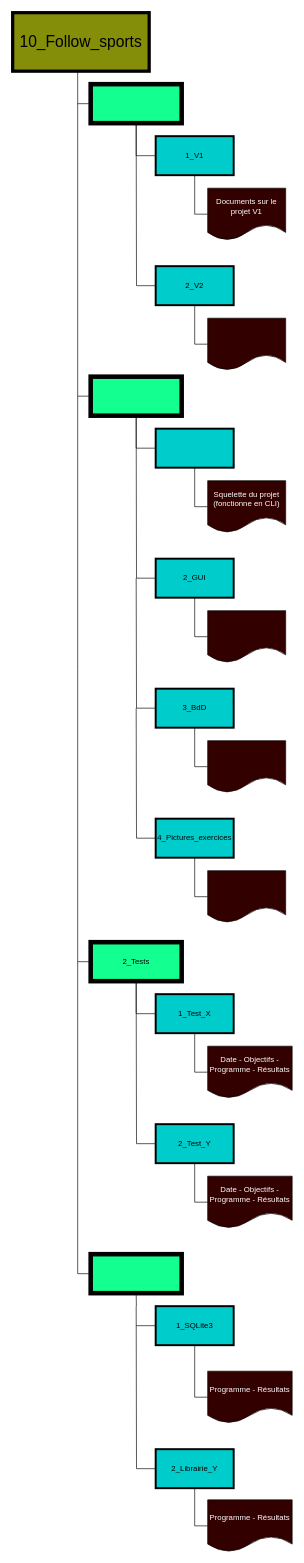
Image size: 304x1563. Some labels were removed from this diagram. Here are the shapes that lost their labels. From the top down, the centre of each, then its label:
point (136, 103): 0_Cahier_des_Charges
point (246, 344): Documents sur le projet V2
point (136, 396): 1_Code
point (194, 447): 1_API
point (246, 636): Interface utilisateur
point (246, 766): Base de données des utilisateurs (contient leurs séances)
point (246, 896): Contient toutes les photos des exercices
point (136, 1273): 10_Apprentissage
